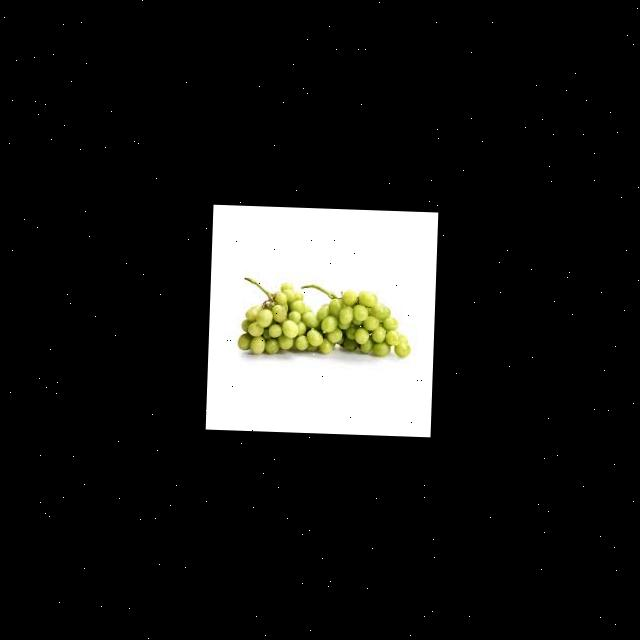grape: (235, 276, 412, 358)
